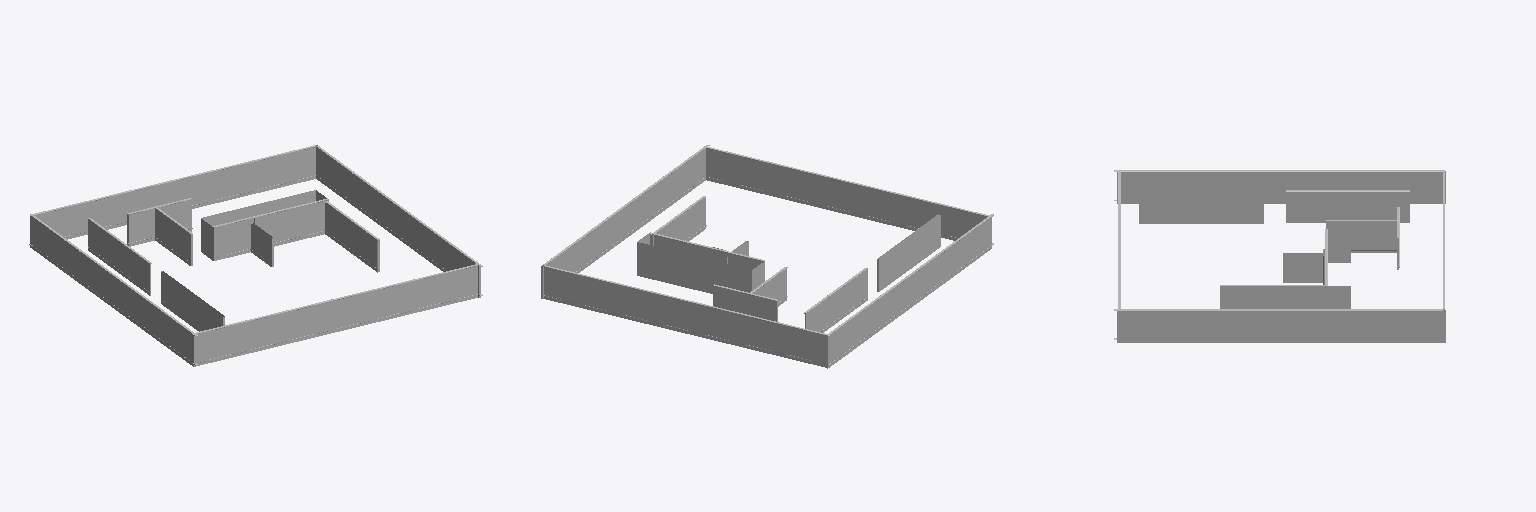
Rendered from BackWall.obj.
3 renders of one model, left to right at view 1: azimuth 30°, elevation 25°; view 2: azimuth 150°, elevation 25°; view 3: azimuth 270°, elevation 25°, orthographic.
Parts seen in each view (by area): view 1: BackWall_Double_BR.028; view 2: BackWall_Double_BR.028; view 3: BackWall_Double_BR.028.
Boxes of the visible parts, x1=… form: BackWall_Double_BR.028: x1=29, y1=145, x2=482, y2=366; BackWall_Double_BR.028: x1=541, y1=145, x2=993, y2=368; BackWall_Double_BR.028: x1=1114, y1=170, x2=1445, y2=342.
Size of the model in its own units: 20.26 by 2.29 by 20.26.